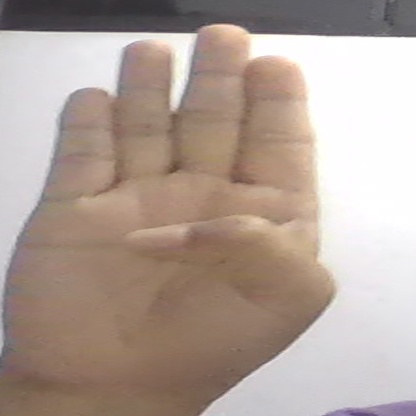B: (1, 24, 338, 390)
